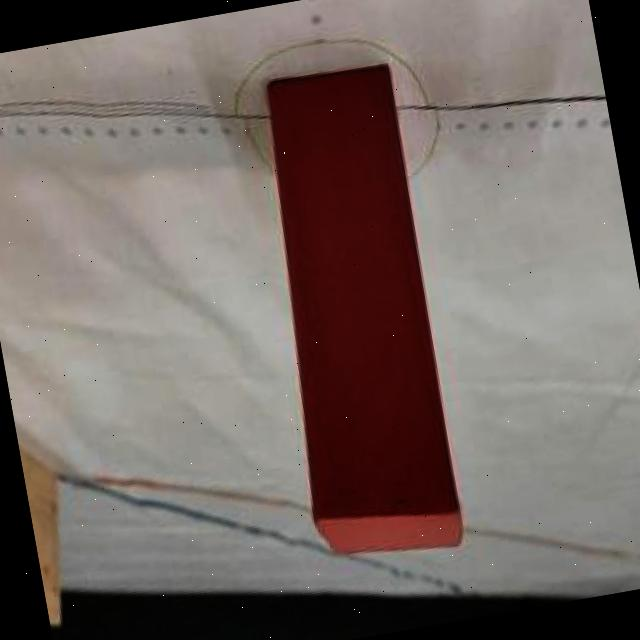redbox: (238, 60, 476, 571)
